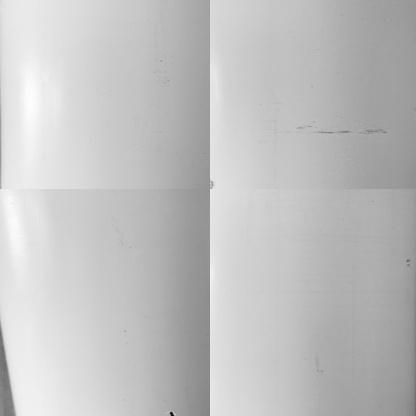kongdong: (166, 409, 176, 416)
